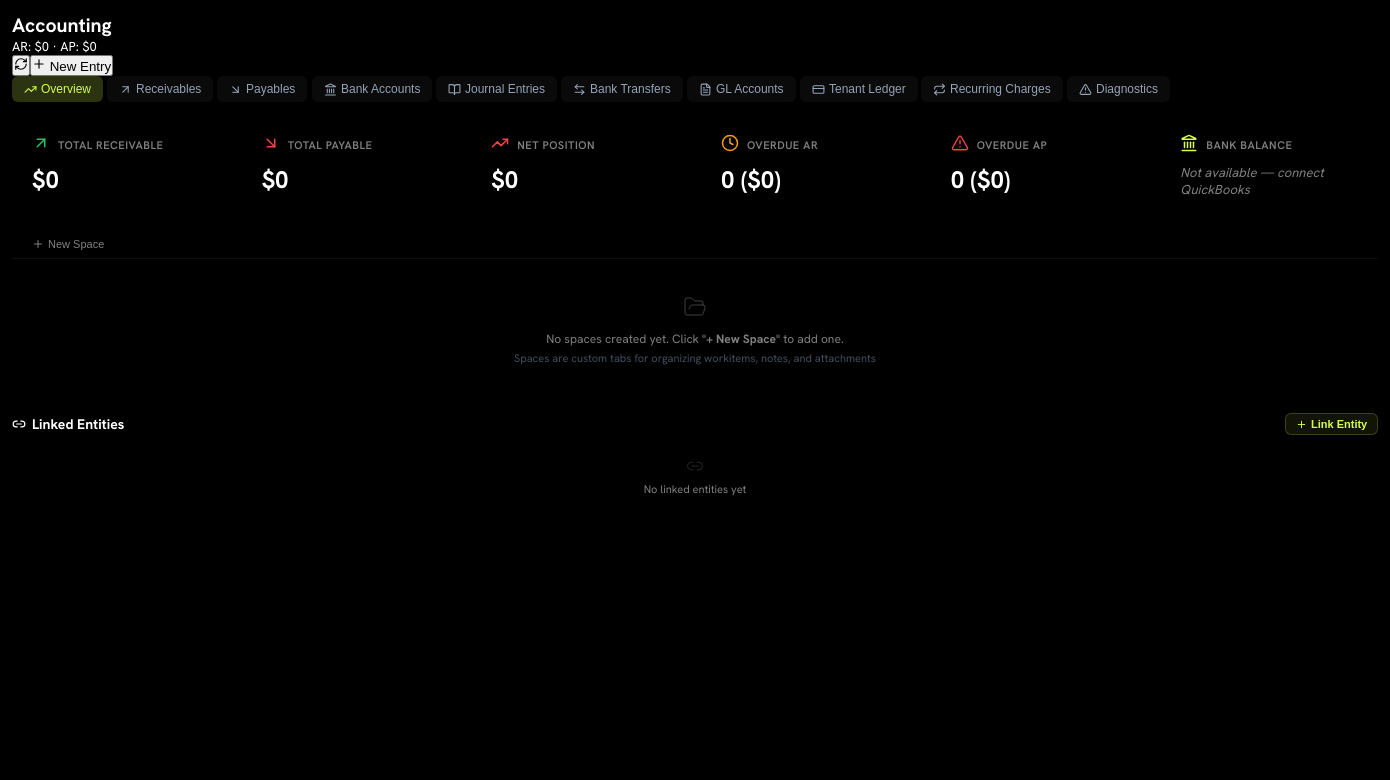
Test: AccountingModule · empty account → honest empty states, never the old hardcoded arrays › Bank Accounts: "Not available — connect QuickBooks", no fake Chase/Ally balances
Click the button "Bank Accounts": (372, 89) [312,76,432,102]
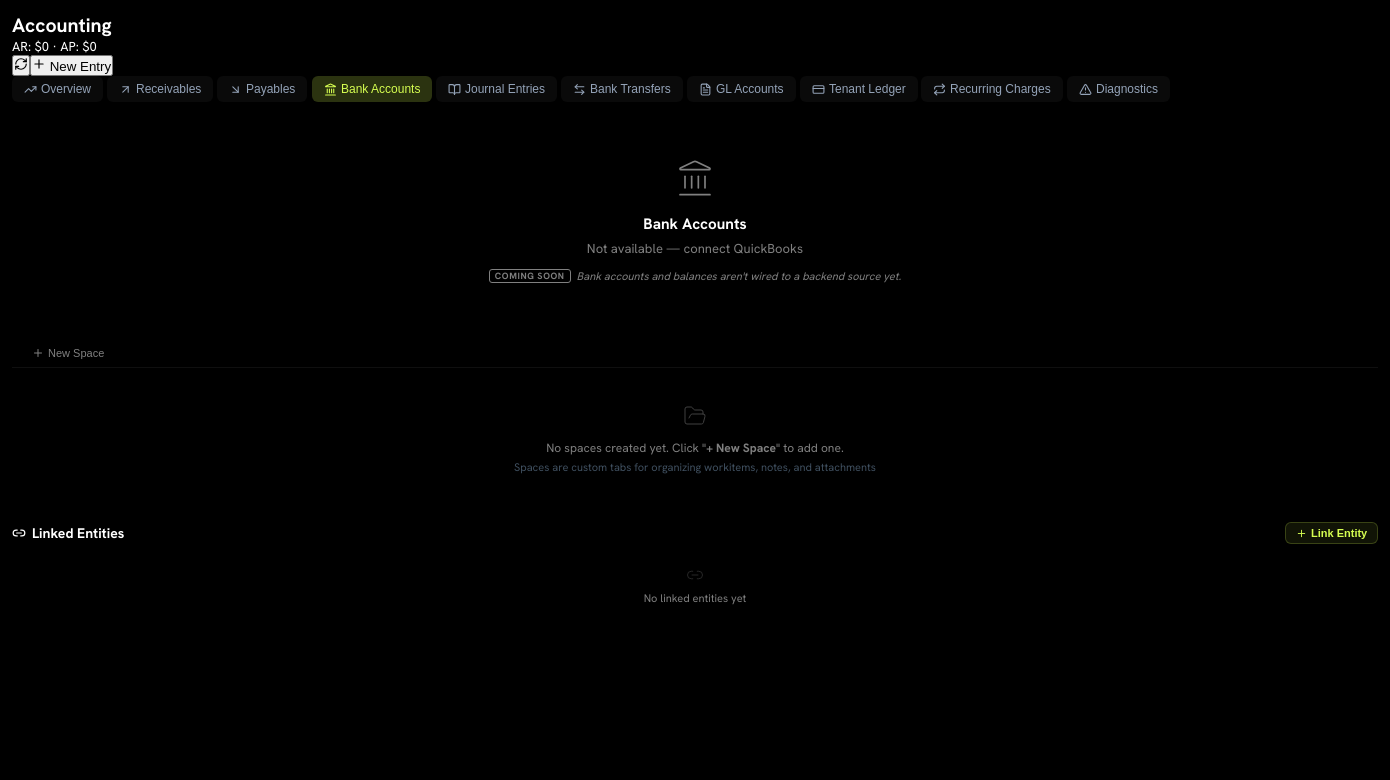
Expected: the text "Not available — connect QuickBooks" is shown, [587,240,803,257]
Expected: the element that starts with "Coming soon" is shown, [495,270,565,282]
